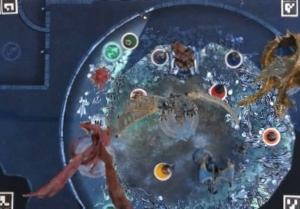blue: (222, 49, 245, 69)
green: (121, 29, 140, 50)
orange: (259, 125, 283, 148)
pink: (127, 85, 150, 105)
red: (209, 80, 231, 102)
violet: (150, 43, 171, 67)
yellow: (152, 158, 175, 181)
